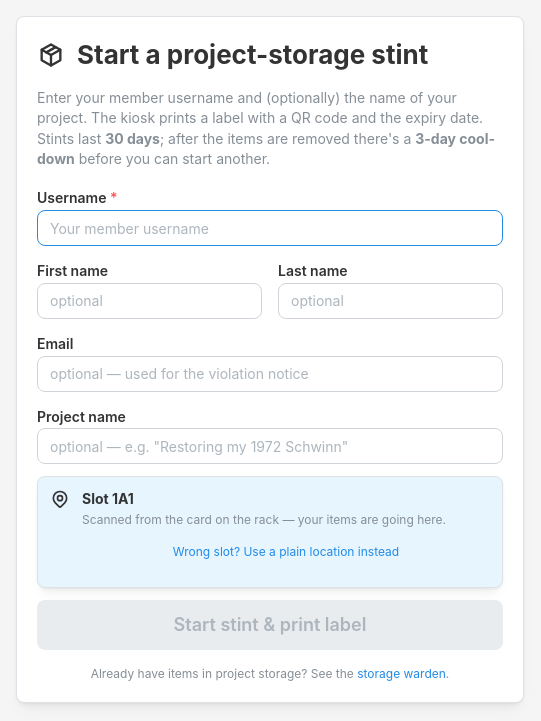
Test: ProjectStorageKioskPage — 409 slot_occupied › names the slot and the stint already in it
This screenshot has width=541, height=721.
Type "alice" into the field with test id "kiosk-username-input".
click(270, 228); type("alice")  # box [37, 210, 503, 246]
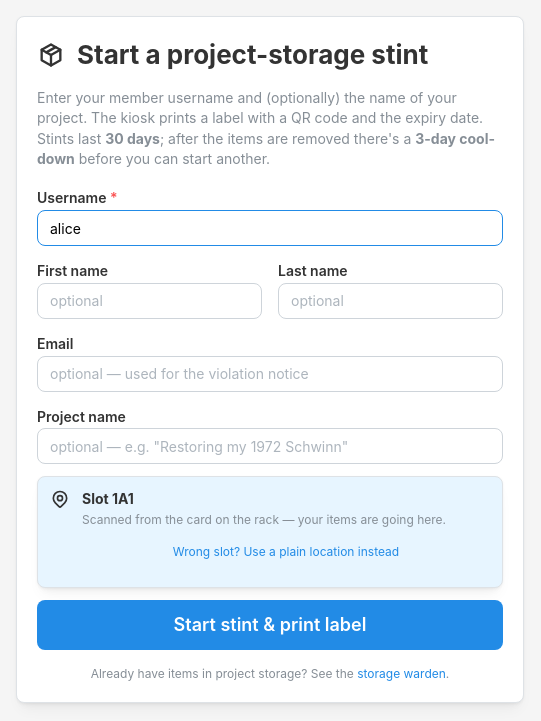
Click the button with test id "kiosk-start-button".
click(270, 625)  # box [37, 600, 503, 650]
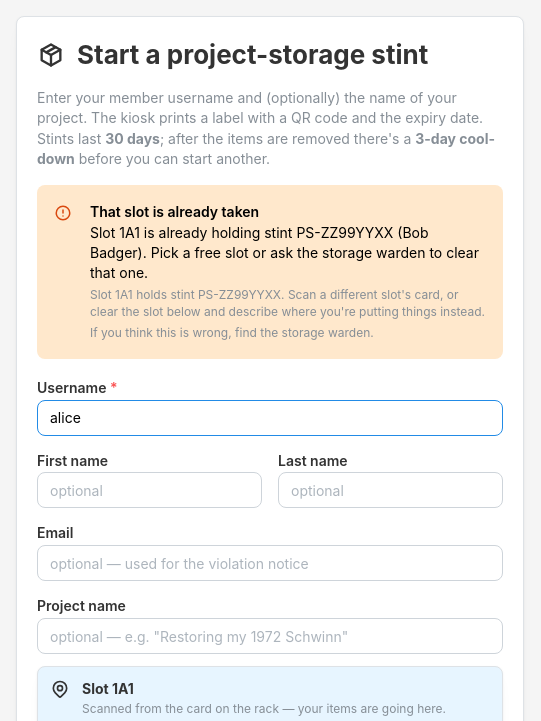
Check: the message with test id "kiosk-rejection" shows "That slot is already taken", box [90, 203, 259, 220]
Check: the message with test id "kiosk-rejection" shows "PS-ZZ99YYXX", box [198, 288, 281, 302]
Check: the text with test id "kiosk-slot-occupied-hint" shows "Slot 1A1", box [90, 288, 486, 321]
